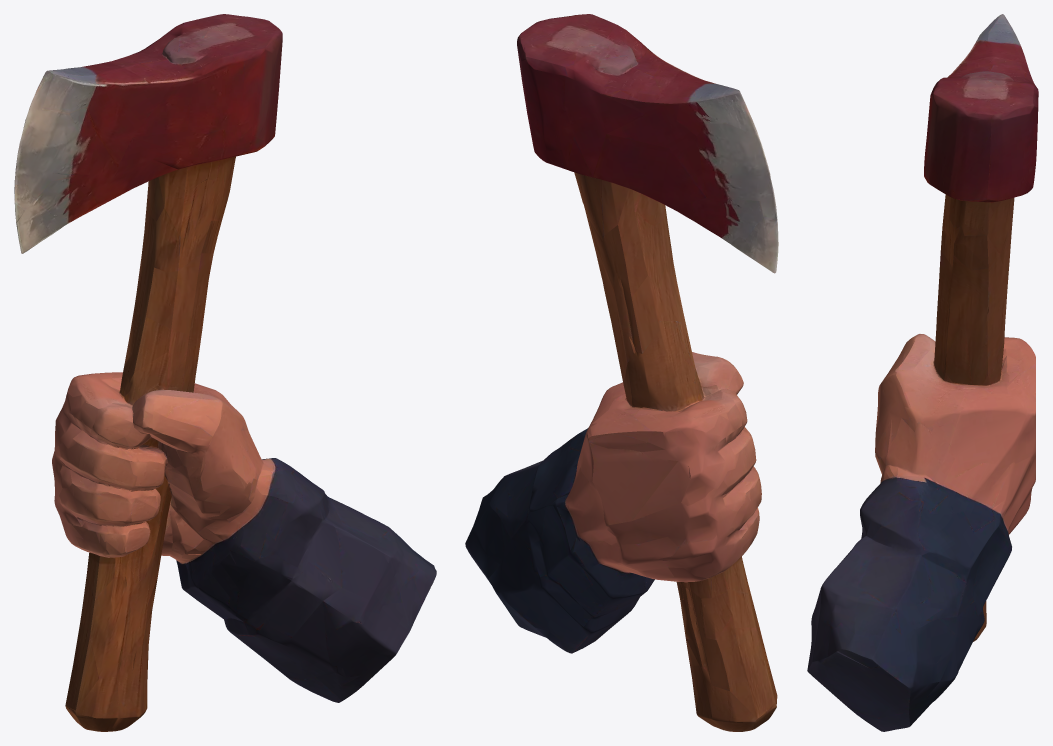
File: axe-hand-8iCbmQQg.glb
3 views of the same model, side by side, from view 1: azimuth 30°, elevation 25°; view 2: azimuth 150°, elevation 25°; view 3: azimuth 270°, elevation 25° (orthographic). The views are drawn at different scales.
Size of the model in its own units: 1.08 by 1.9 by 0.6454.
1 material, 1 textured.
